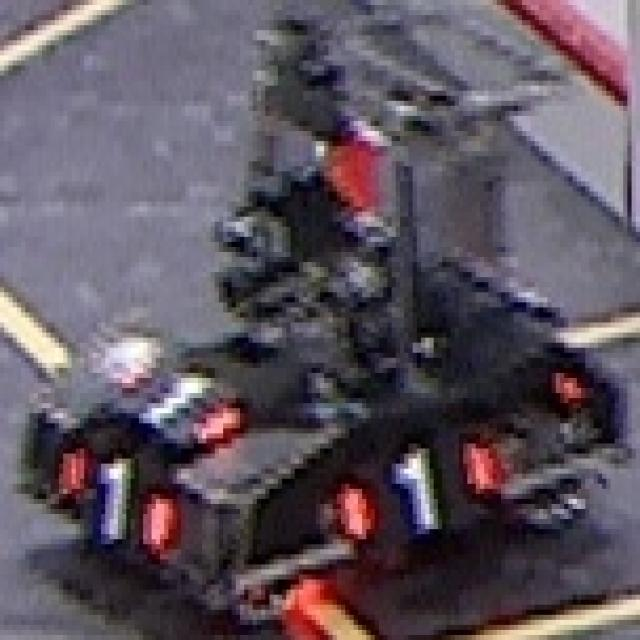R1: (332, 428, 497, 550), (93, 348, 244, 448), (55, 438, 177, 554)
